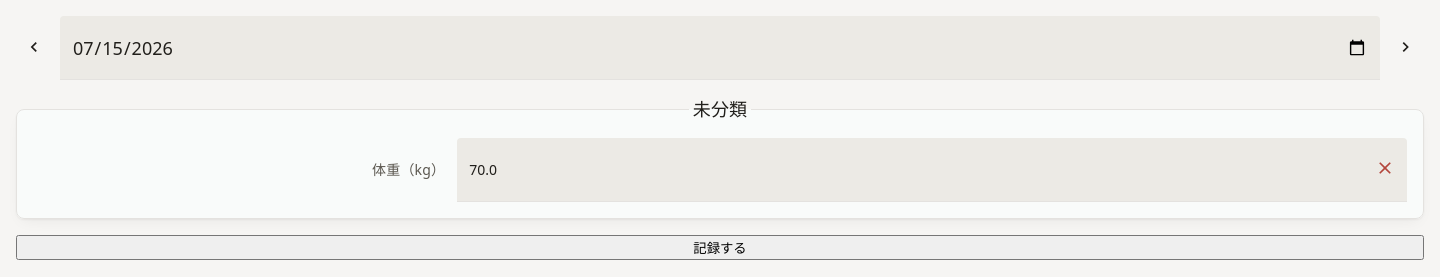
EntryFormScreen › clears the field's text via the small clear button without touching the server
Expected: the number field named "体重" holds "70", 457,138 -> 1367,201
What coordinates should you click on to do the following:
click the button named "体重 の入力を消す"
I would click on:
 (1385, 170)
Its box is 1367,152 -> 1403,188.
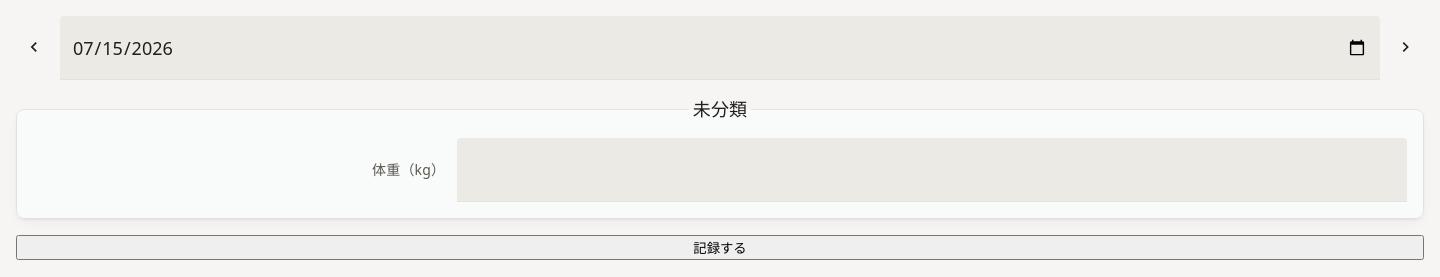
Expected: the number field named "体重" is not empty, 457,138 -> 1407,201
